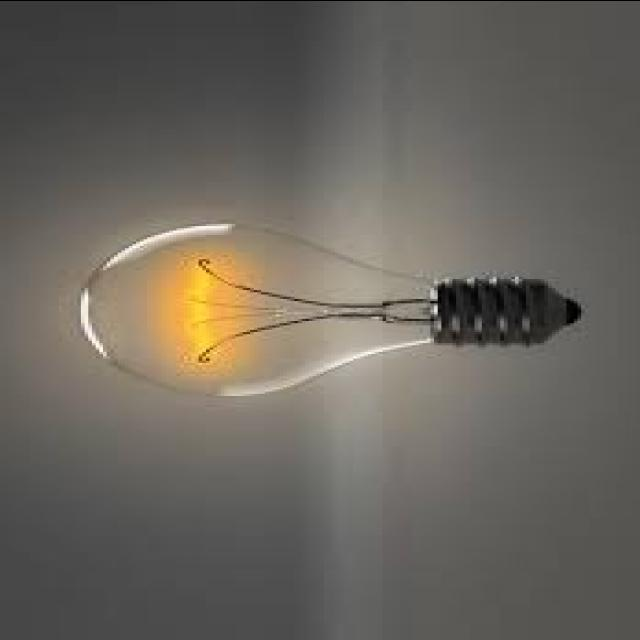light_bulb: (59, 214, 619, 406)
